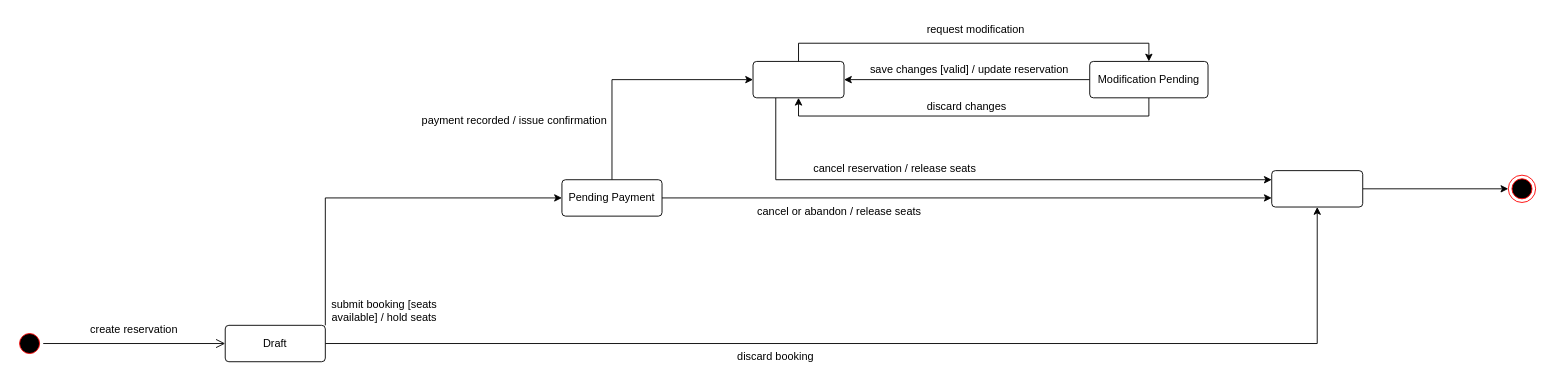
The diagram is 1552 pixels wide and 386 high, and some of its shapes have lost their labels. Here are the shapes that lost their labels. From the top down, the centre of each, then its label:
At point 798,79: "Confirmed".
At point 1317,188: "Cancelled".
